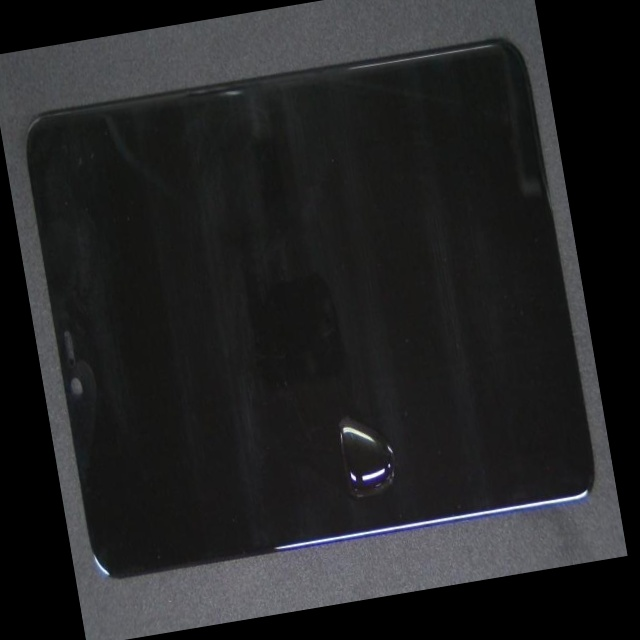oil: (163, 225, 535, 624)
